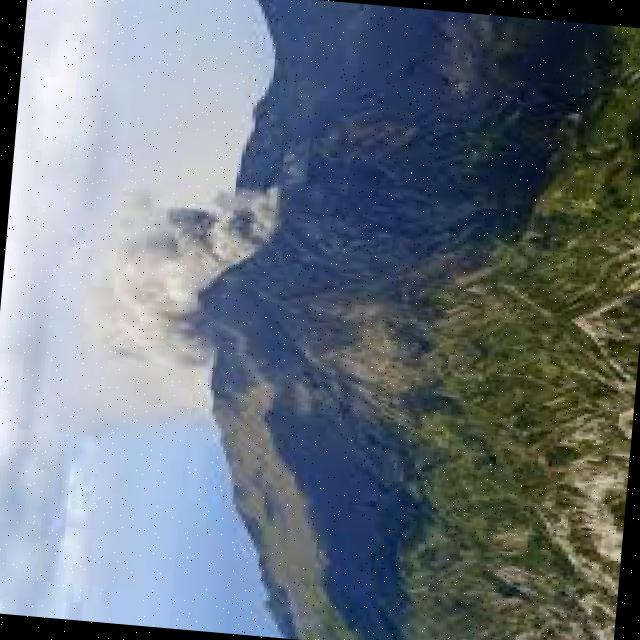explosion: (58, 160, 326, 394)
